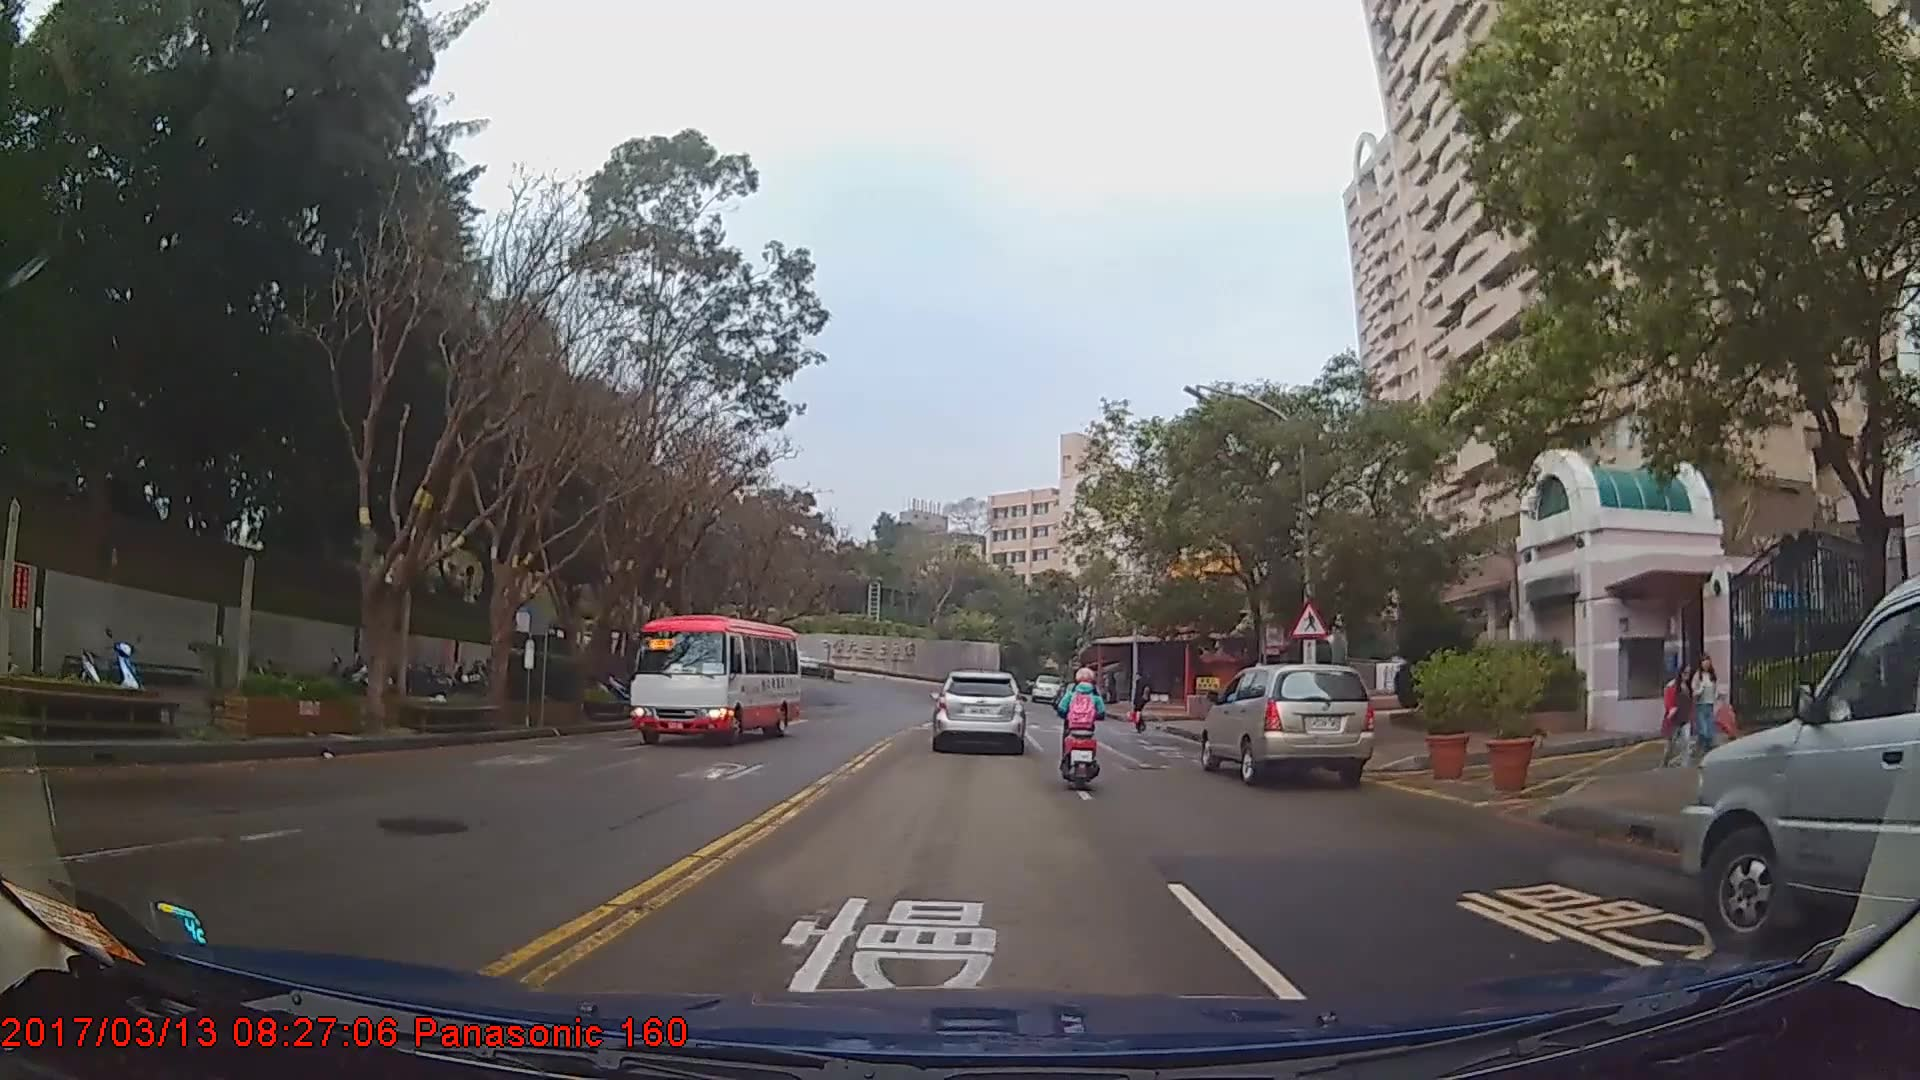pedestrian: (1658, 649, 1705, 774), (1688, 642, 1736, 762), (1129, 670, 1155, 739)
rider: (1056, 664, 1111, 794)
vehicle: (1681, 573, 1920, 957), (628, 614, 802, 746), (1199, 663, 1374, 788), (929, 670, 1026, 755), (1030, 675, 1063, 703)
